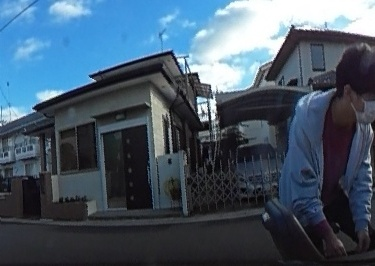person: (279, 44, 375, 251)
